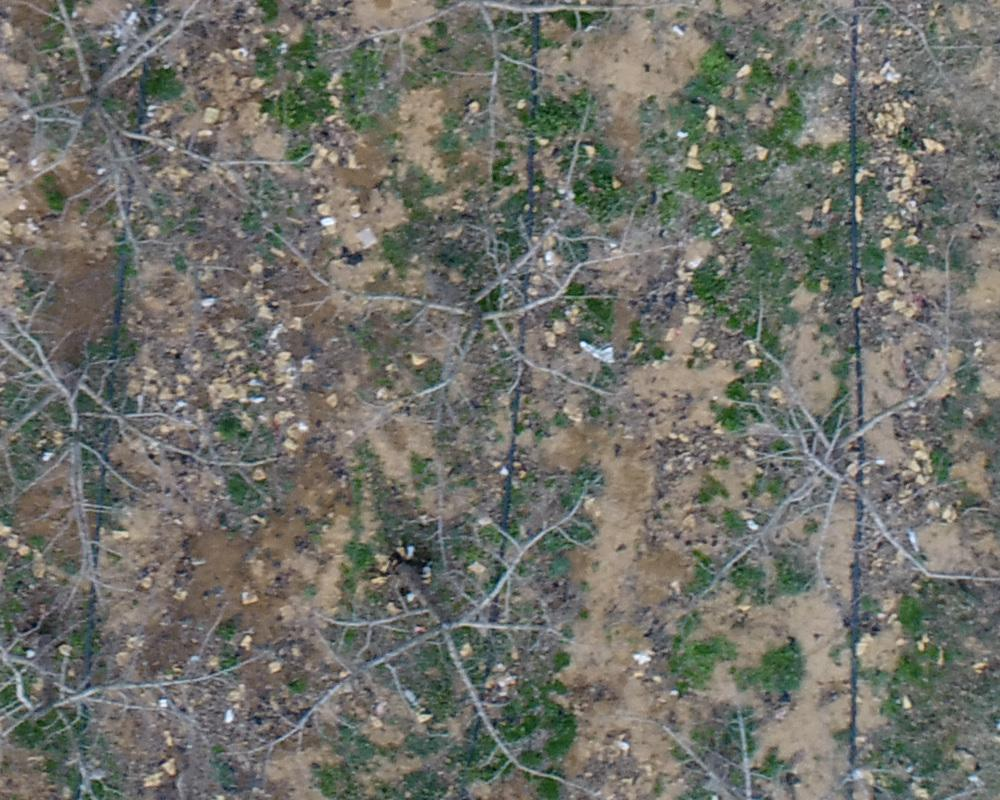apple: (318, 108, 692, 435), (690, 241, 990, 631), (262, 478, 606, 790), (10, 252, 279, 612), (10, 10, 337, 300), (10, 598, 260, 790), (600, 690, 990, 790)
